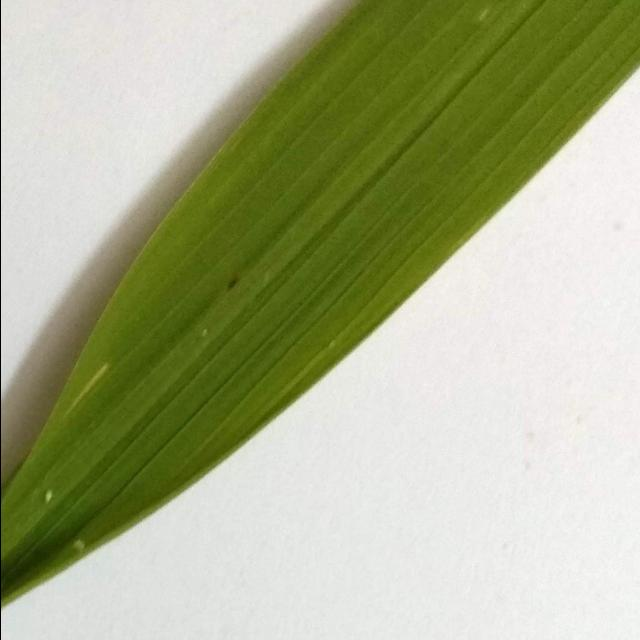healthy: (0, 1, 640, 614)
